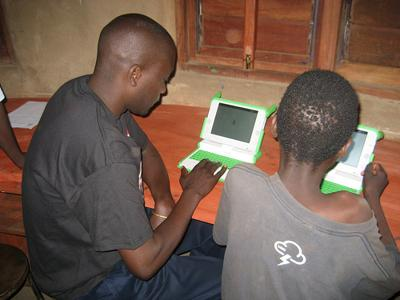person: (22, 14, 229, 300)
